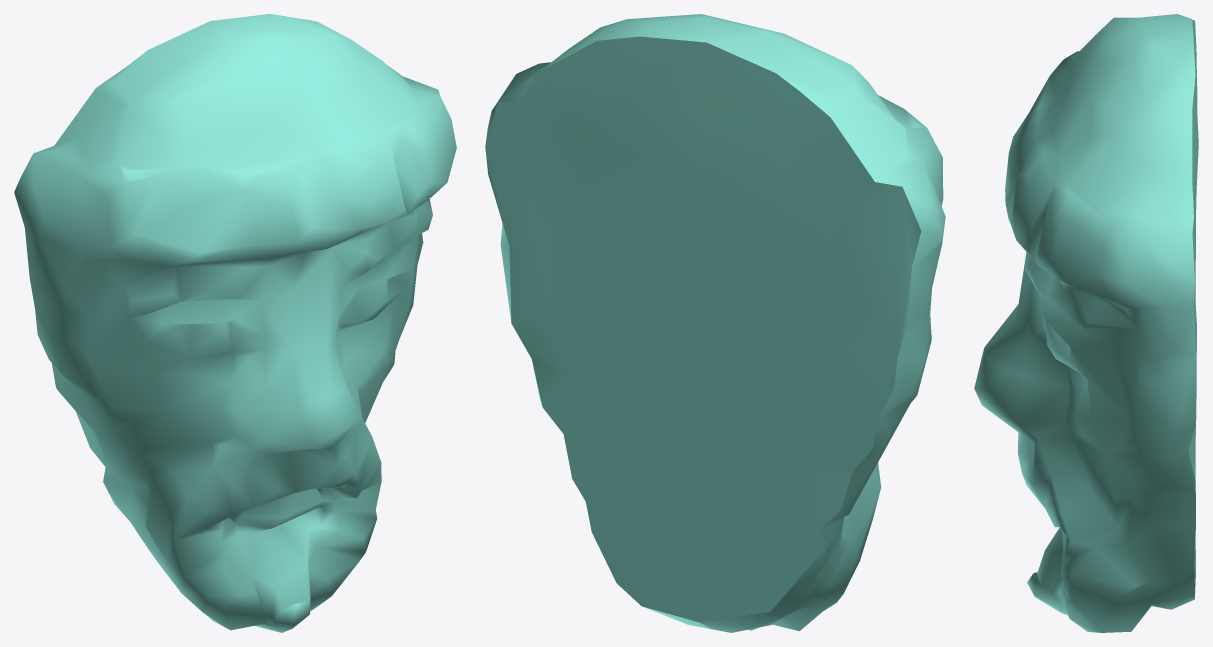
The model's file is sculpture_01.fbx.
3 views of the same model, side by side, from view 1: azimuth 30°, elevation 25°; view 2: azimuth 150°, elevation 25°; view 3: azimuth 270°, elevation 25° (orthographic). The views are drawn at different scales.
Visible parts, largest first — view 1: sculpture_01_LOD0; view 2: sculpture_01_LOD0; view 3: sculpture_01_LOD0.
Part boxes in pixels (box(x1,y1,x2,y2)): sculpture_01_LOD0: box(14, 14, 456, 632); sculpture_01_LOD0: box(485, 14, 945, 632); sculpture_01_LOD0: box(974, 14, 1198, 632).
Size of what is drawn, in the model's own units: 48.41 by 64.95 by 22.64.
